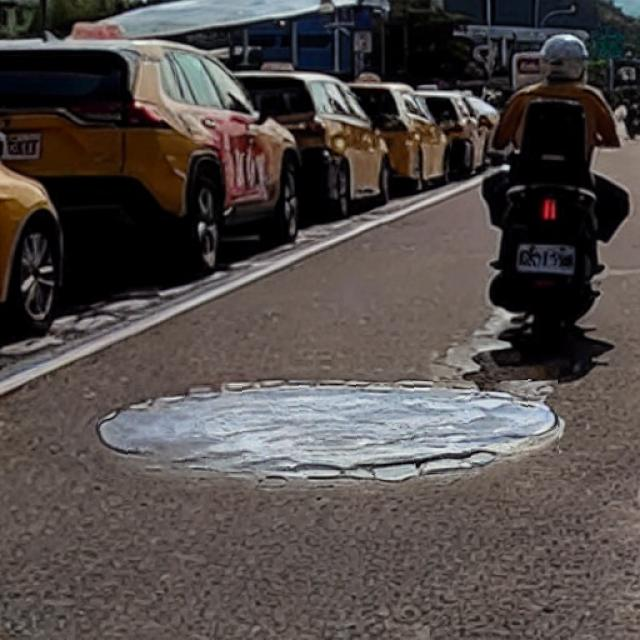puddle: (99, 382, 559, 478)
